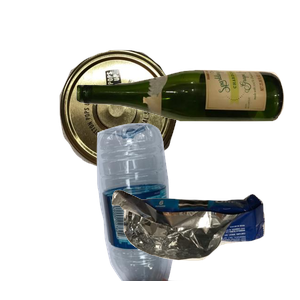glass: (74, 67, 300, 181)
metal: (57, 47, 227, 211)
plastic: (94, 120, 267, 300)
trash: (109, 187, 300, 300)
